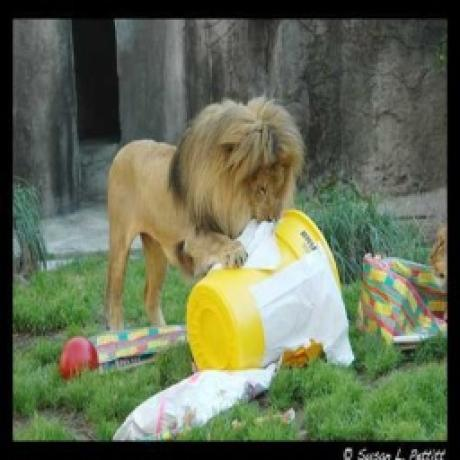Lion: (104, 97, 307, 333)
